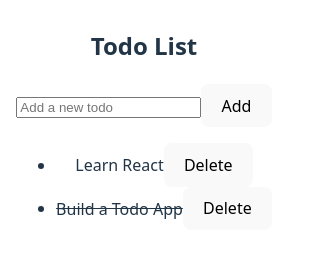
adds a new todo
Type "New Task" into the field with placeholder "Add a new todo" at (109, 107), box x1=16 y1=97 x2=201 y2=118
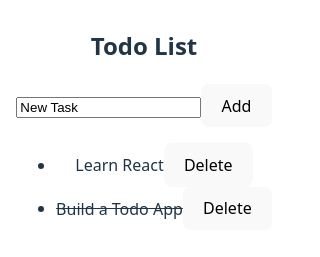
Click the button "Add" at (236, 106), box x1=201 y1=84 x2=272 y2=127
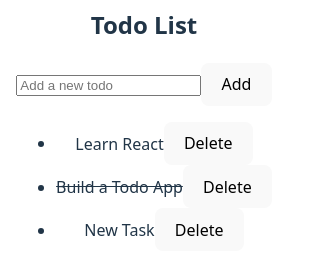
Expected: the text "New Task" is shown, x1=84 y1=219 x2=155 y2=241
